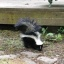skunk: (15, 19, 44, 51)
